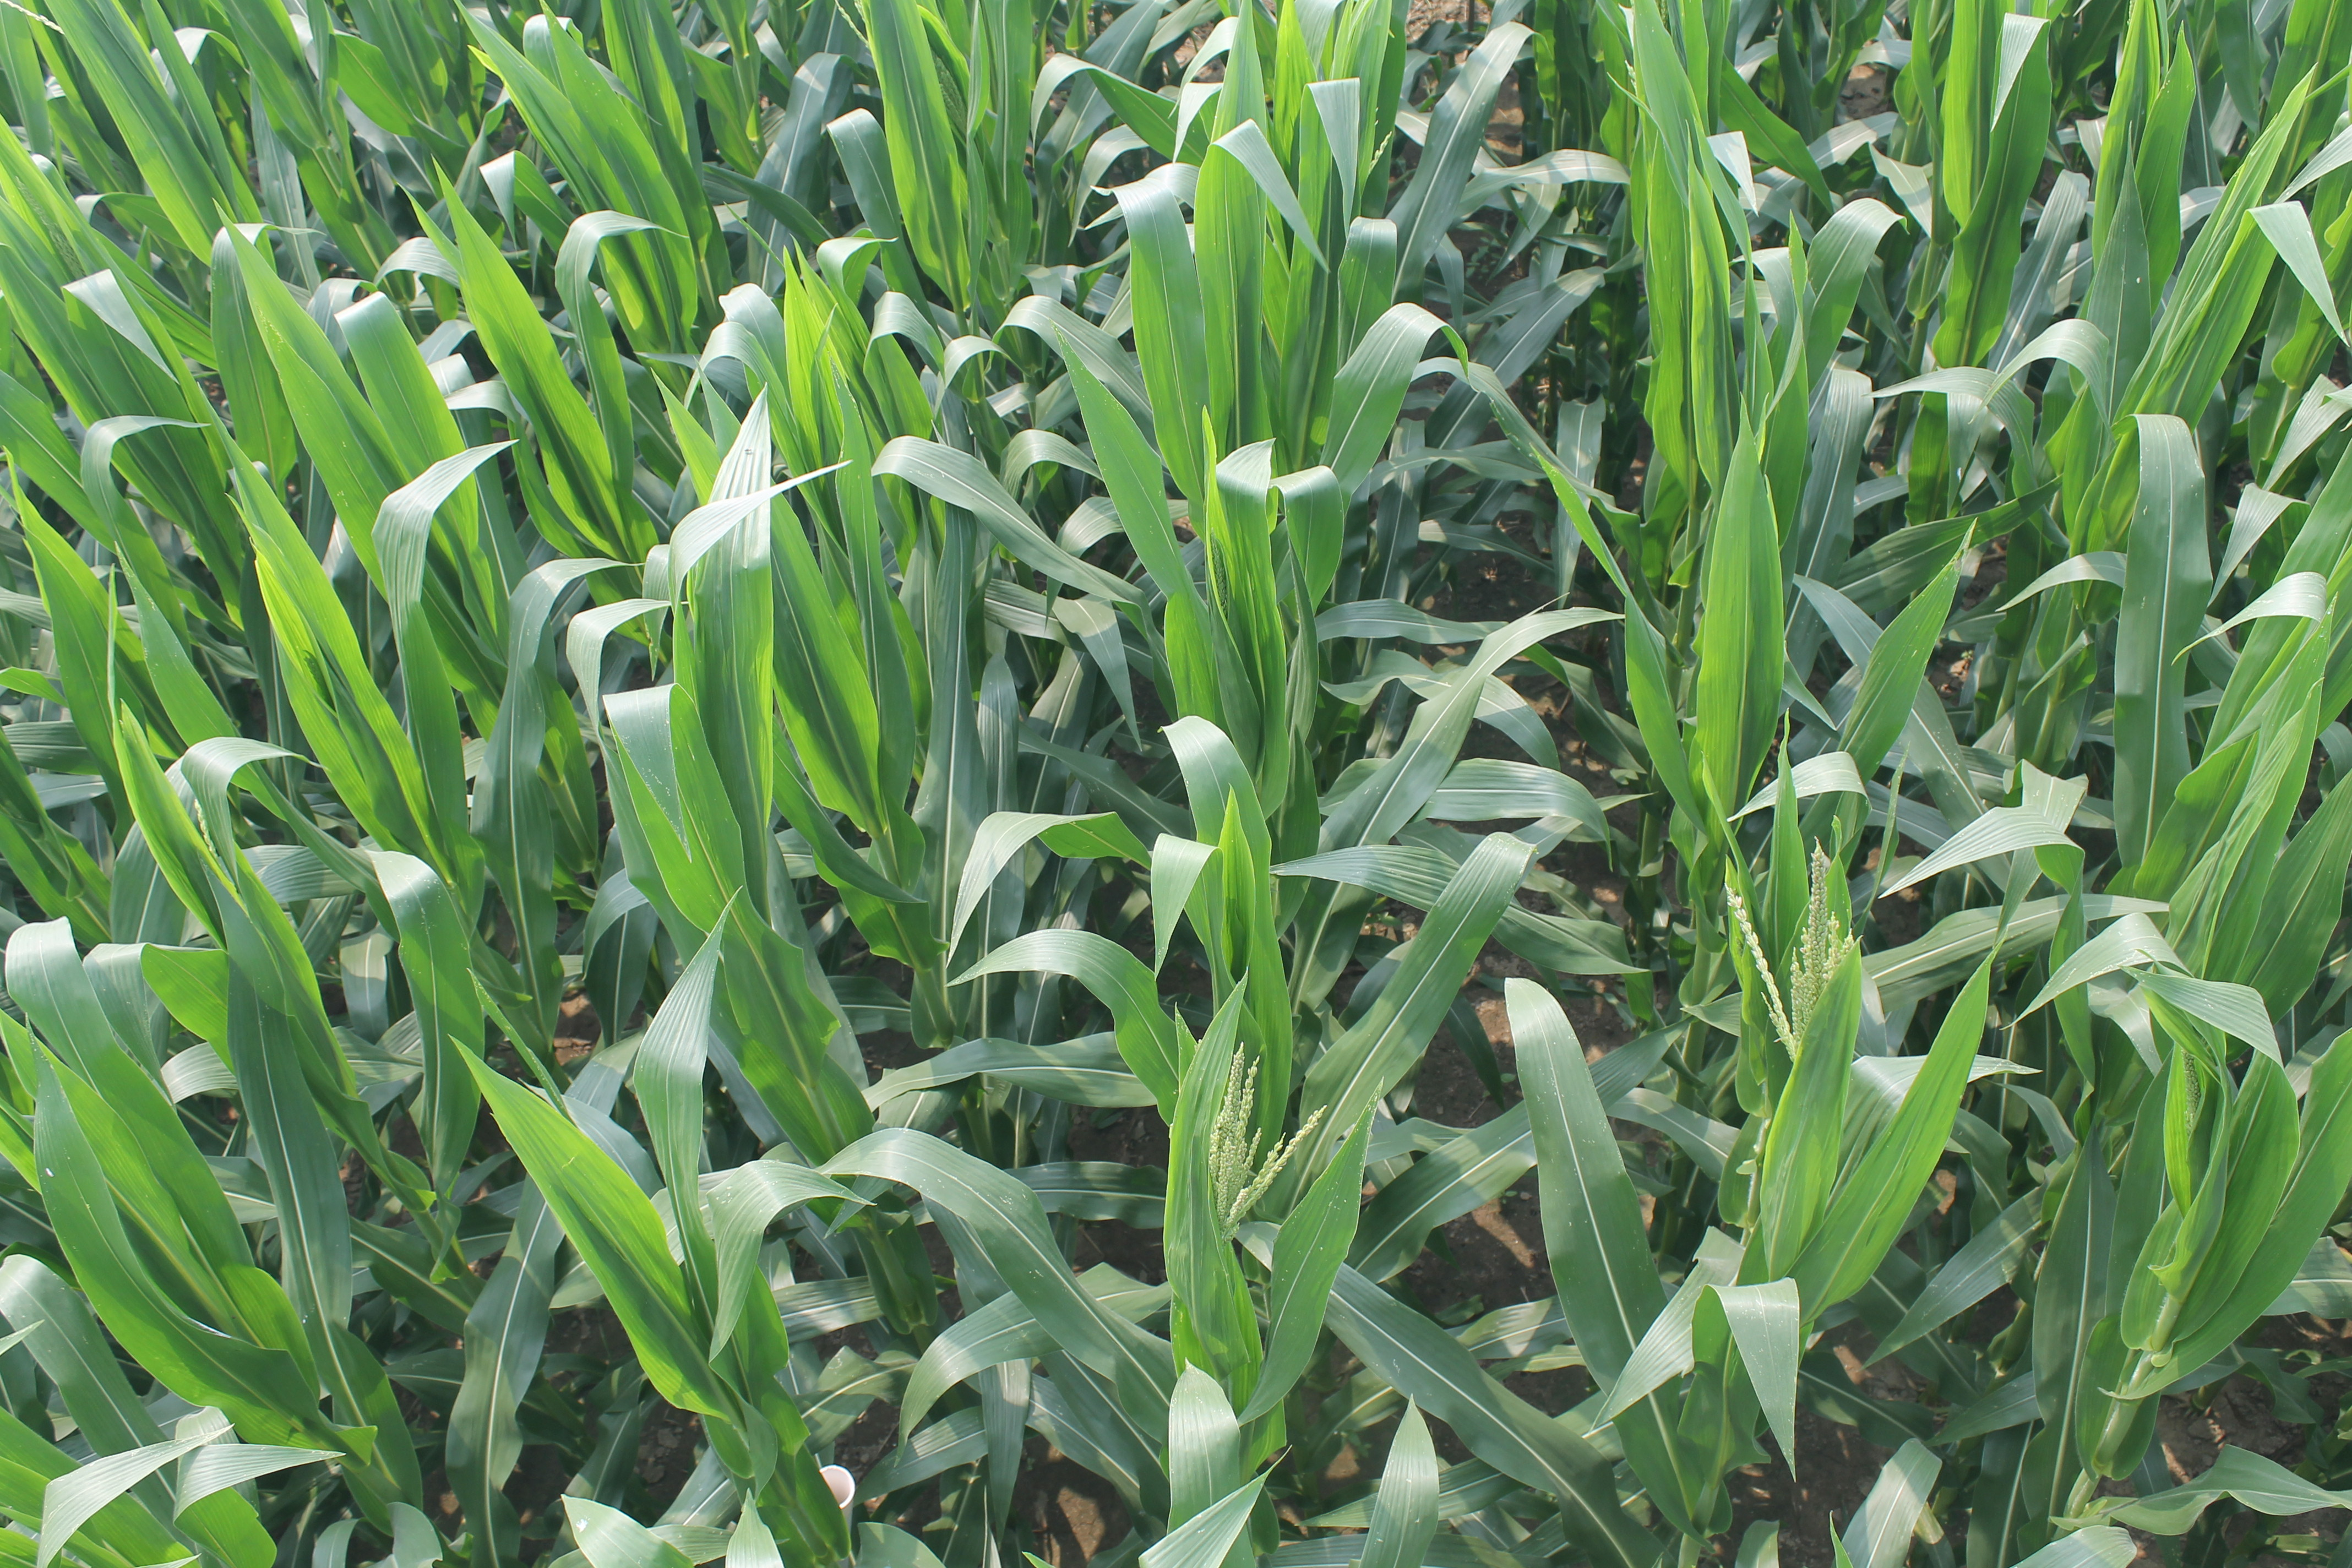Maize: (1715, 838, 1837, 1048), (1200, 1045, 1323, 1228)
